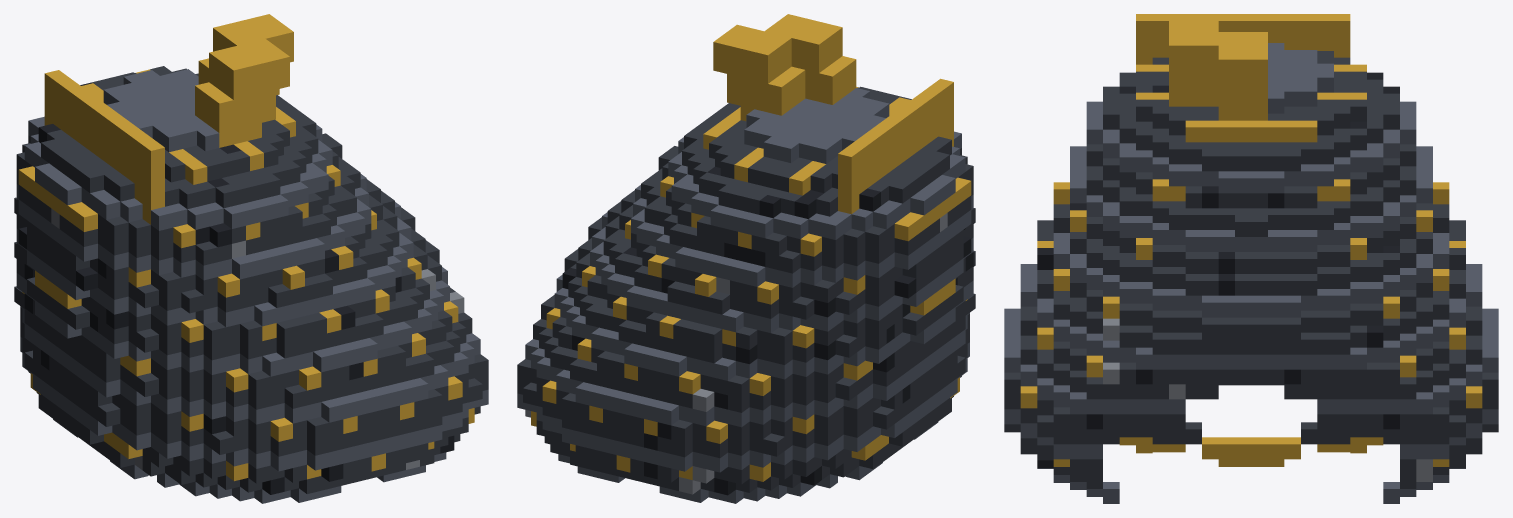
File: scale_epic_shoulder_L.glb
The picture shows the model from 3 angles, left to right: view 1: azimuth 30°, elevation 25°; view 2: azimuth 150°, elevation 25°; view 3: azimuth 270°, elevation 25°; orthographic projection. The views are drawn at different scales.
Parts seen in each view (by area): view 1: scale_epic_shoulder_L; view 2: scale_epic_shoulder_L; view 3: scale_epic_shoulder_L.
Boxes of the visible parts, x1,y1,x2,y2 form: scale_epic_shoulder_L: (14, 14, 488, 503); scale_epic_shoulder_L: (517, 14, 975, 503); scale_epic_shoulder_L: (1004, 14, 1498, 503).
Bounding box in the file's own units: 0.288 × 0.312 × 0.36.
